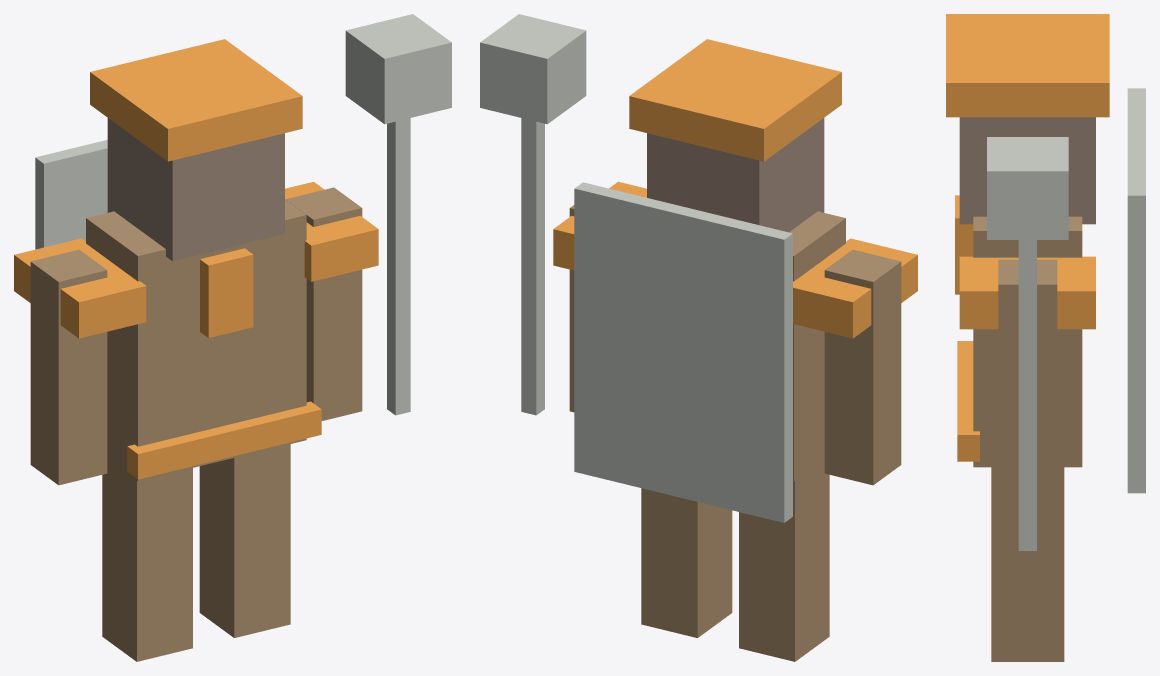
The model's file is 07_varren_whispercoil_archivist_under_sculpture.glb.
The picture shows the model from 3 angles, left to right: view 1: azimuth 30°, elevation 25°; view 2: azimuth 150°, elevation 25°; view 3: azimuth 270°, elevation 25°; orthographic projection. The views are drawn at different scales.
Visible parts, largest first — view 1: Varren Whispercoil, Archivist under Sculpture; view 2: Varren Whispercoil, Archivist under Sculpture; view 3: Varren Whispercoil, Archivist under Sculpture.
Part boxes in pixels (x1,y1,x2,y2): Varren Whispercoil, Archivist under Sculpture: [14, 14, 451, 661]; Varren Whispercoil, Archivist under Sculpture: [480, 14, 917, 661]; Varren Whispercoil, Archivist under Sculpture: [946, 14, 1145, 661].
Bounding box in the file's own units: 1.06 × 1.43 × 0.4509.
